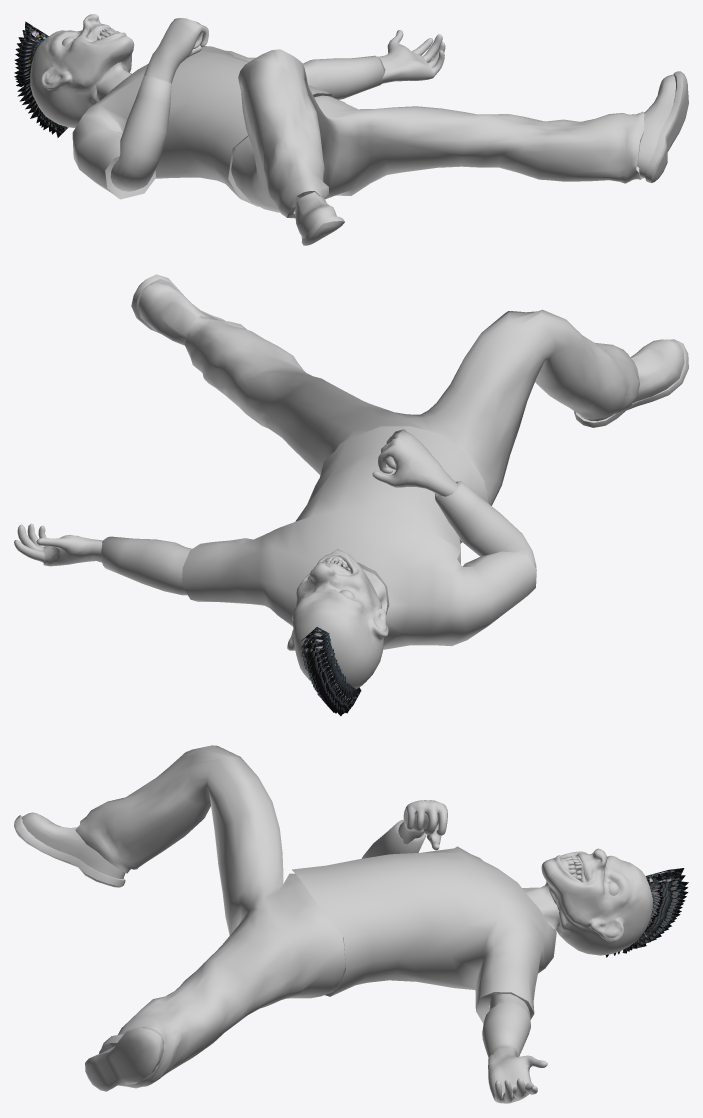
File: Dead (51).obj
The picture shows the model from 3 angles, top to bottom: view 1: azimuth 30°, elevation 25°; view 2: azimuth 150°, elevation 25°; view 3: azimuth 270°, elevation 25°; orthographic projection. The views are drawn at different scales.
Visible parts, largest first — view 1: pants, shirt, head, forearm_band_01, boots001, forearm_band_002, hand_left, hand_right, Hair, boots, neck; view 2: shirt, pants, head, forearm_band_01, forearm_band_002, hand_right, boots, boots001, Hair, hand_left; view 3: pants, shirt, head, boots, boots001, forearm_band_002, Hair, hand_left, hand_right, forearm_band_01, neck.
Part boxes in pixels (<box>): pants: <box>231,49,644,218</box>; shirt: <box>72,46,332,206</box>; head: <box>30,14,134,127</box>; forearm_band_01: <box>110,75,171,191</box>; boots001: <box>637,71,688,182</box>; forearm_band_002: <box>303,55,385,99</box>; hand_left: <box>377,30,445,83</box>; hand_right: <box>144,18,208,83</box>; Hair: <box>14,21,68,137</box>; boots: <box>294,192,344,245</box>; neck: <box>96,62,131,100</box>; shirt: <box>182,426,536,649</box>; pants: <box>185,309,639,505</box>; head: <box>287,549,388,689</box>; forearm_band_01: <box>435,481,536,567</box>; forearm_band_002: <box>101,536,191,595</box>; hand_right: <box>372,429,457,496</box>; boots: <box>574,339,688,427</box>; boots001: <box>131,274,225,345</box>; Hair: <box>300,627,361,715</box>; hand_left: <box>14,523,102,566</box>; pants: <box>75,745,345,1088</box>; shirt: <box>292,846,556,1023</box>; head: <box>541,848,652,955</box>; boots: <box>14,812,125,887</box>; boots001: <box>85,1027,163,1091</box>; forearm_band_002: <box>482,994,530,1057</box>; Hair: <box>605,868,688,957</box>; hand_left: <box>488,1046,547,1103</box>; hand_right: <box>398,800,447,850</box>; forearm_band_01: <box>361,819,426,858</box>; neck: <box>522,882,559,931</box>.
Bounding box in the file's own units: 144 × 61.7 × 170.
